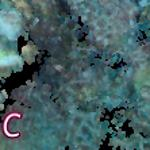dead: (28, 2, 146, 145)
